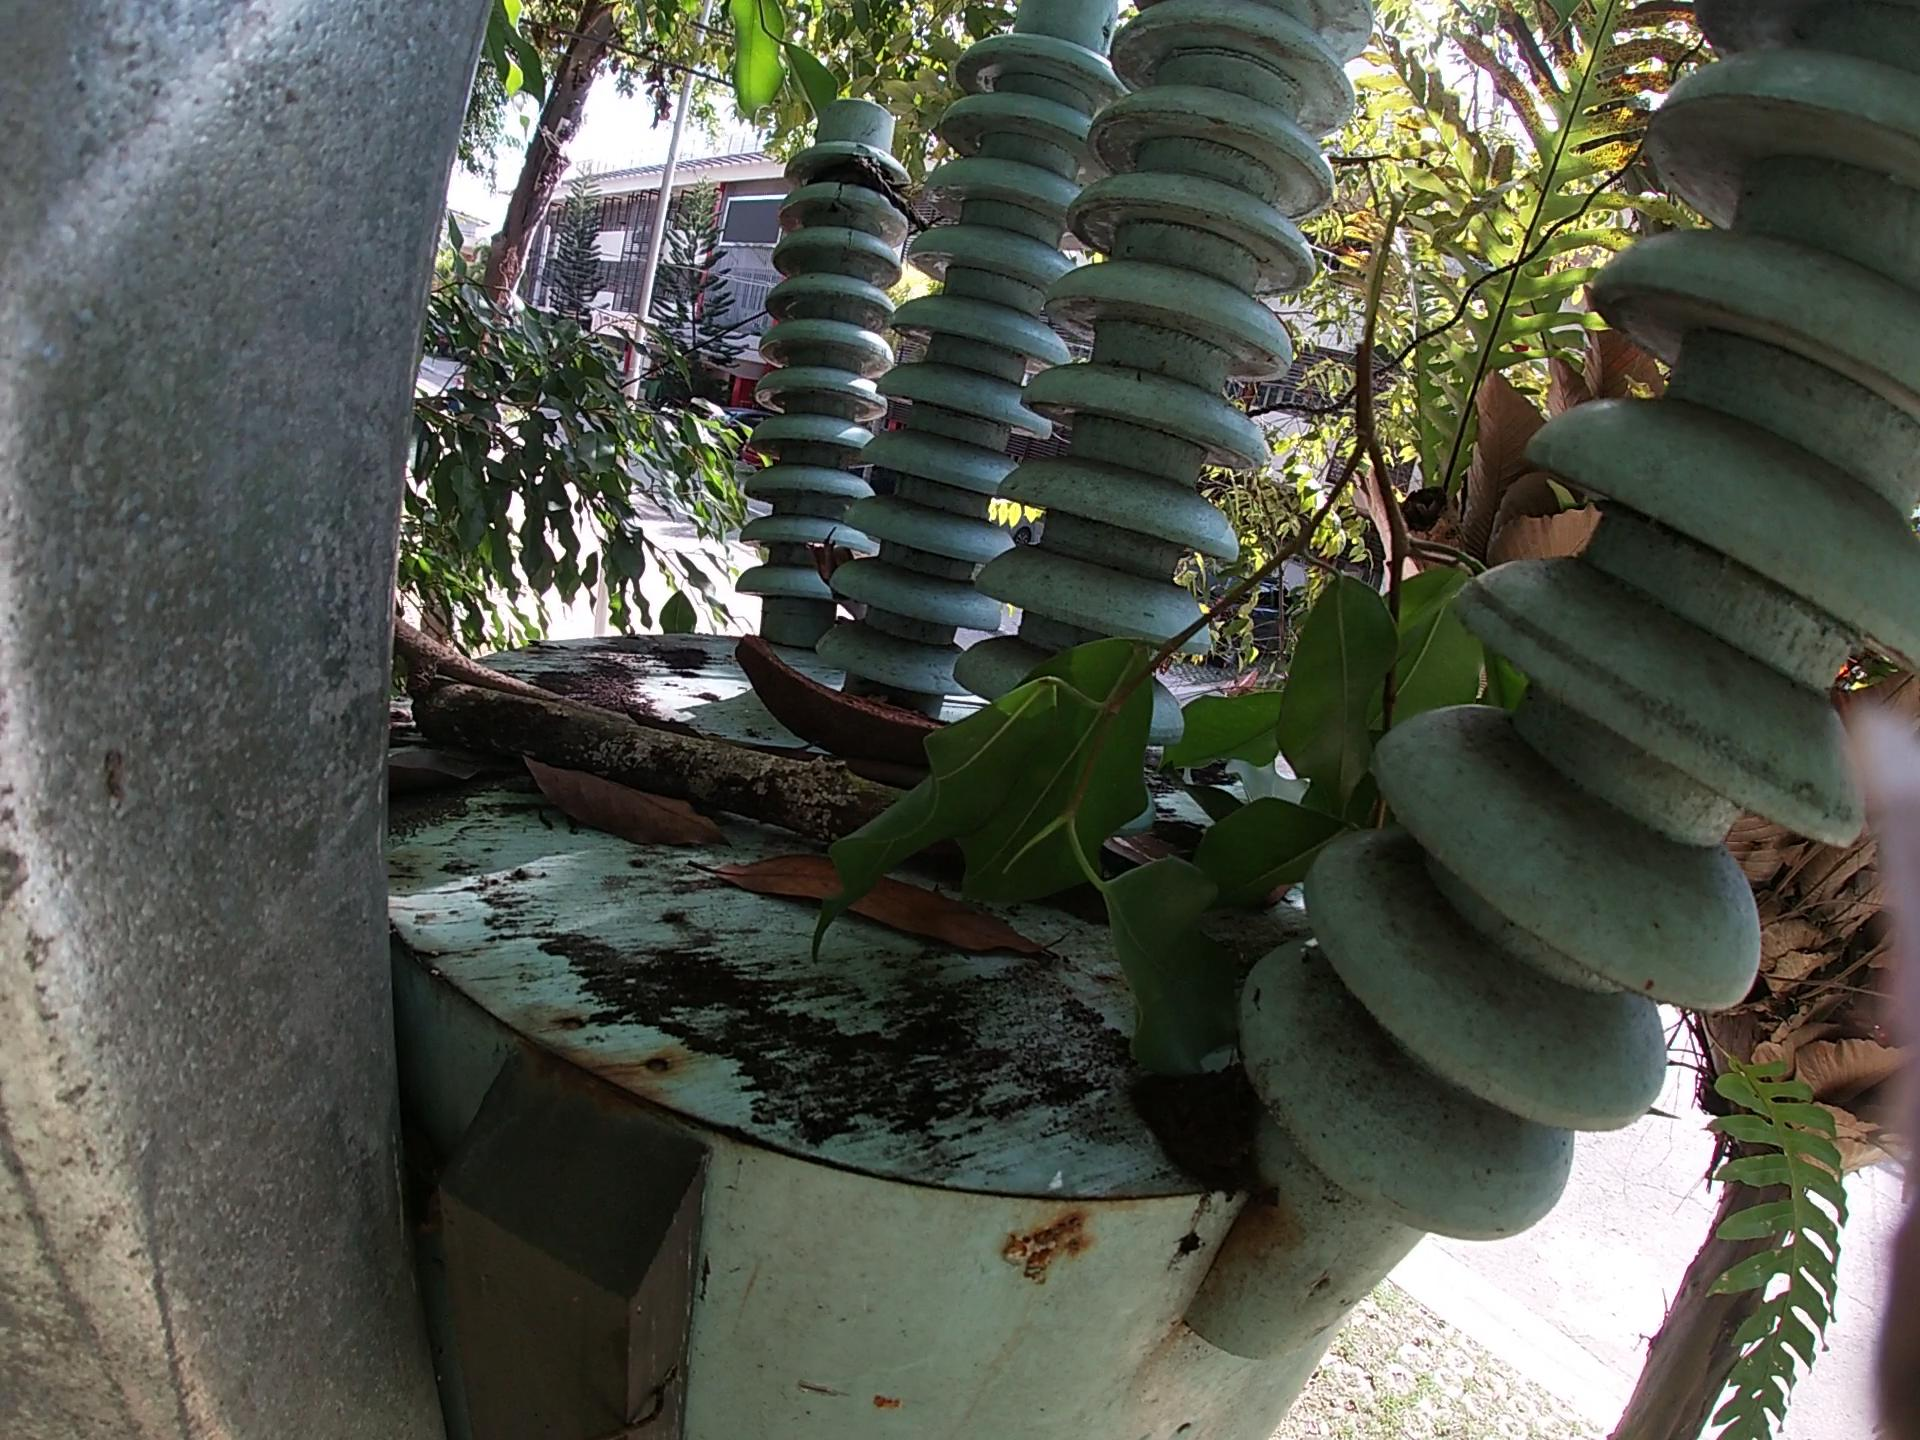branch with leaves: (813, 166, 1534, 1251)
leaf: (705, 853, 1082, 982), (532, 768, 747, 849), (392, 746, 463, 818)
mahogany fruit: (732, 622, 951, 781)
tree branch: (405, 672, 893, 846), (390, 608, 638, 708)
